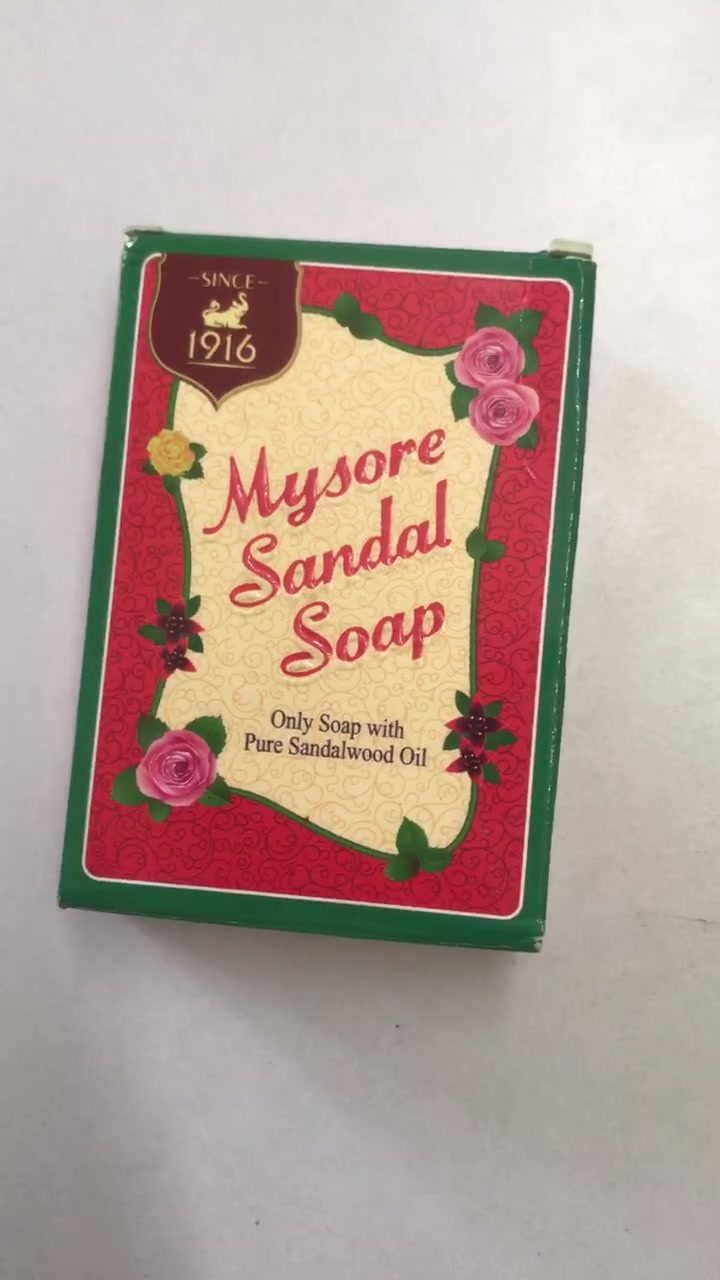mysore sandal soap: (59, 227, 592, 953)
